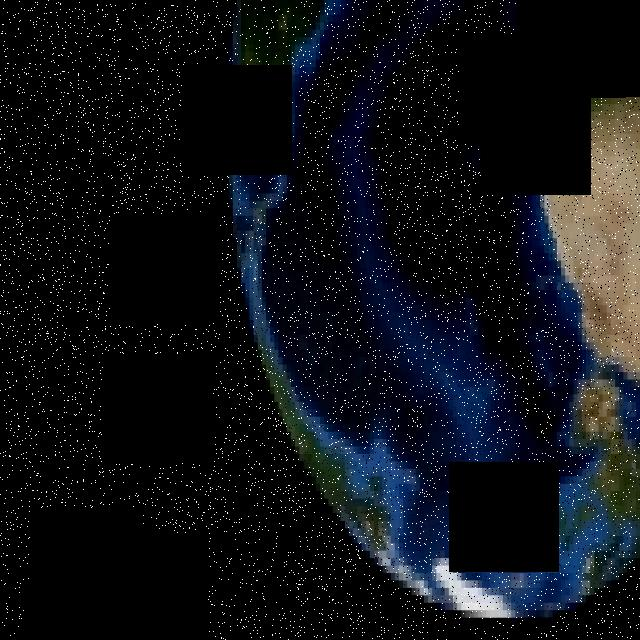Earth: (224, 0, 640, 625)
